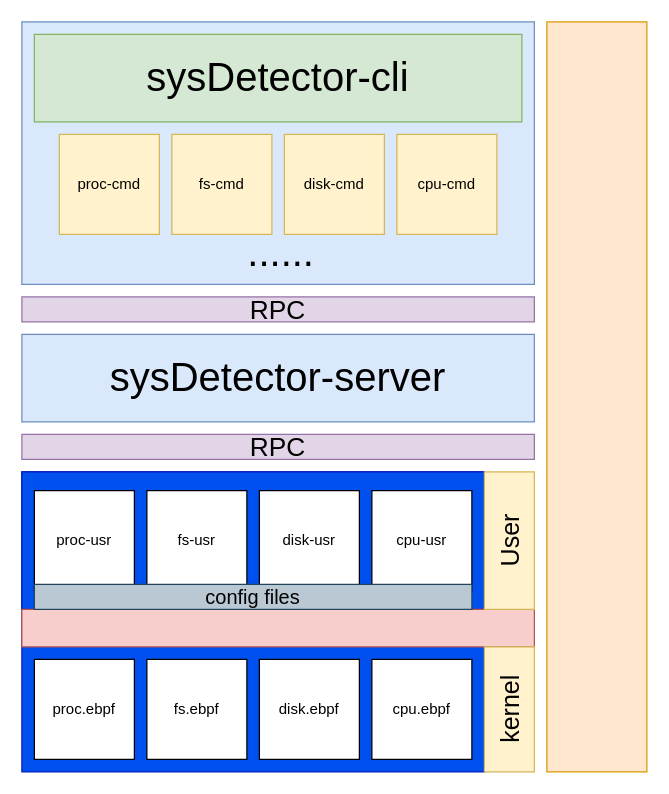
Some shapes in this 669 by 794 pixel diagram are drawn without their labels. Here are the shapes that lost their labels. From the top down, the centre of each, then its label:
(x=596, y=396): Selftest
(x=277, y=627): ebpf(eg.)
